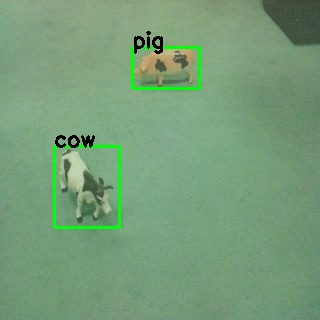cow: (52, 148, 118, 223)
pig: (128, 42, 199, 88)
